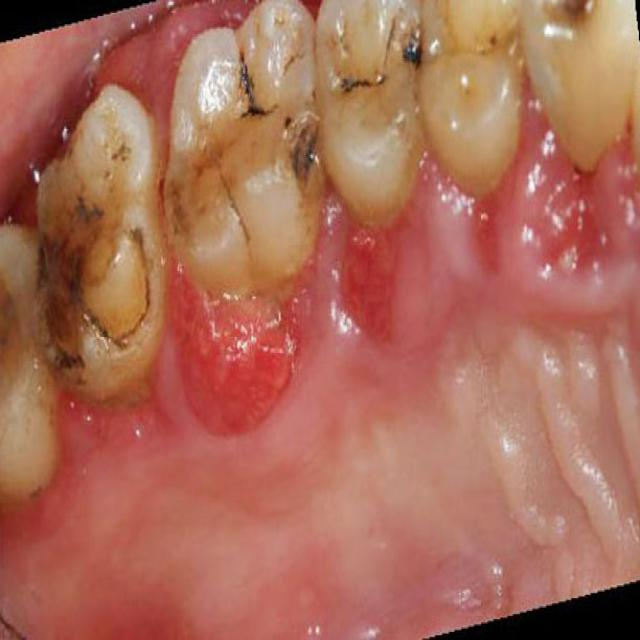caries: (278, 105, 327, 197), (336, 54, 387, 117), (232, 52, 266, 123), (400, 22, 429, 89)
